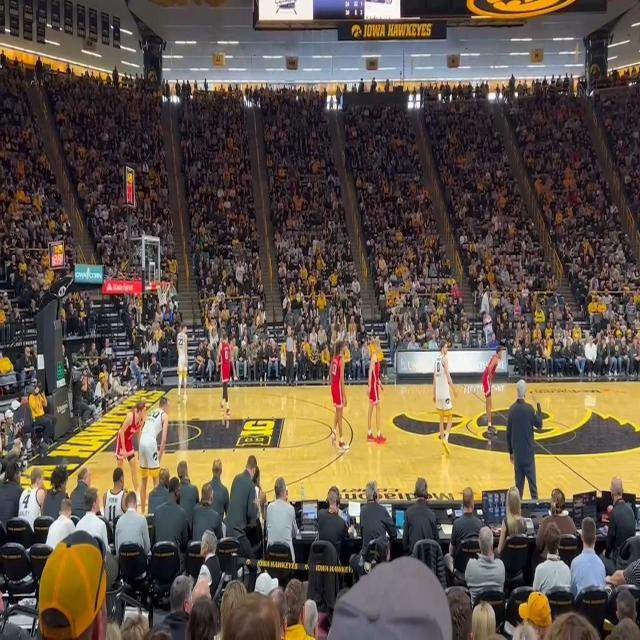Hoop: (156, 282, 172, 306)
Player: (139, 396, 170, 518), (116, 400, 148, 506), (432, 340, 458, 459), (367, 338, 387, 444), (331, 341, 350, 451), (482, 346, 502, 434), (216, 333, 231, 415), (176, 322, 188, 404)
Ref: (284, 326, 296, 387)
